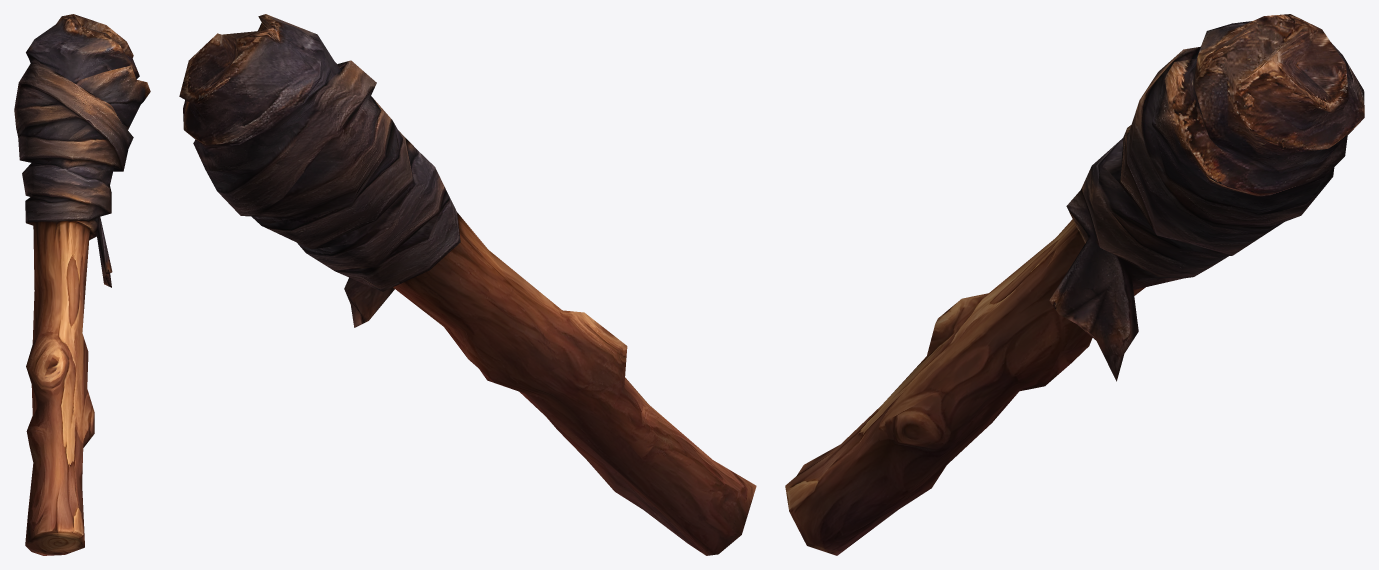
File: antorcha-v1.glb
The picture shows the model from 3 angles, left to right: view 1: azimuth 30°, elevation 25°; view 2: azimuth 150°, elevation 25°; view 3: azimuth 270°, elevation 25°; orthographic projection. The views are drawn at different scales.
Visible parts, largest first — view 1: tripo_node_ad594df3-7169-4947-9b6a-9e573c582a6c; view 2: tripo_node_ad594df3-7169-4947-9b6a-9e573c582a6c; view 3: tripo_node_ad594df3-7169-4947-9b6a-9e573c582a6c.
Part boxes in pixels (x1,y1,x2,y2): tripo_node_ad594df3-7169-4947-9b6a-9e573c582a6c: (14, 14, 150, 555); tripo_node_ad594df3-7169-4947-9b6a-9e573c582a6c: (179, 14, 756, 555); tripo_node_ad594df3-7169-4947-9b6a-9e573c582a6c: (785, 14, 1364, 555).
Size of the model in its own units: 0.6036 by 0.9737 by 0.7837.
Materials: 1 (1 with a texture image).
